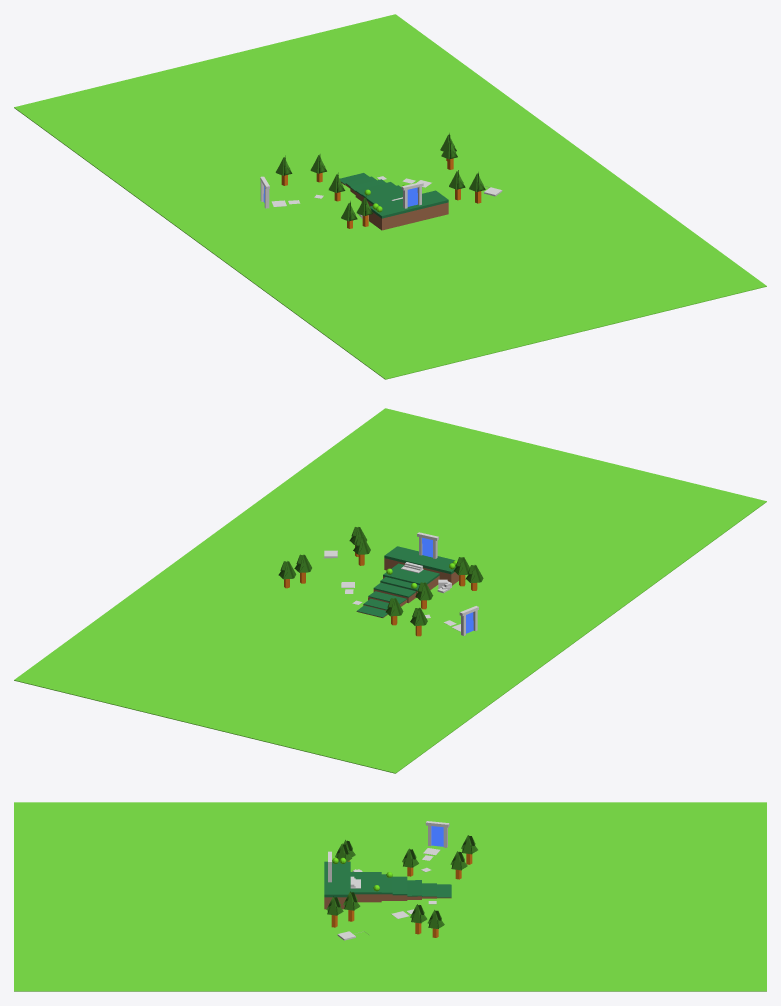
Rendered from area.glb.
3 renders of one model, top to bottom at view 1: azimuth 30°, elevation 25°; view 2: azimuth 150°, elevation 25°; view 3: azimuth 270°, elevation 25°, orthographic.
Parts seen in each view (by area): view 1: floor, terrain.003; view 2: floor, terrain.003, terrain.001; view 3: floor, terrain.003, terrain.001, terrain.004.
Boxes of the visible parts, left/top/right/bottom form: floor: left=14, top=14, right=766, bottom=379; terrain.003: left=369, top=190, right=448, bottom=230; floor: left=14, top=408, right=766, bottom=773; terrain.003: left=384, top=546, right=458, bottom=585; terrain.001: left=383, top=563, right=439, bottom=589; floor: left=14, top=802, right=766, bottom=991; terrain.003: left=324, top=861, right=350, bottom=909; terrain.001: left=350, top=872, right=381, bottom=902; terrain.004: left=392, top=876, right=407, bottom=900.
Bounding box in the file's own units: 439 × 43.81 × 740.
